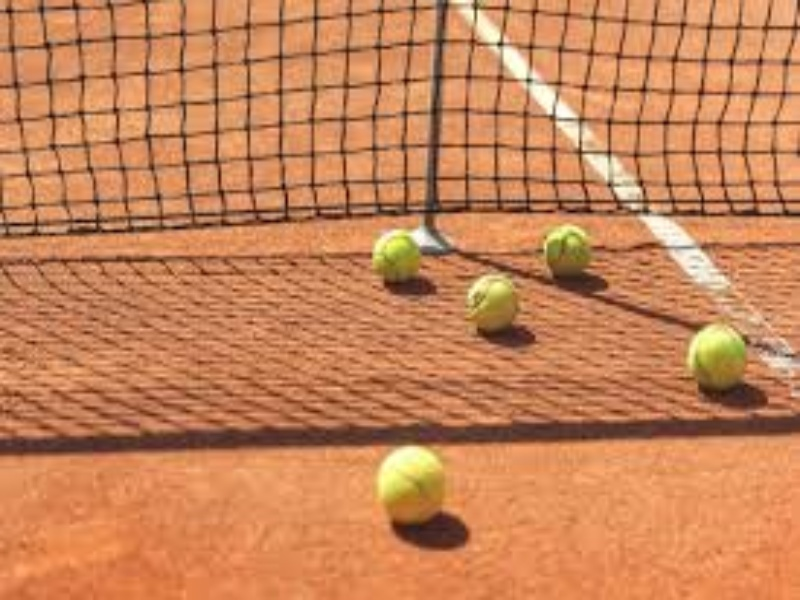tennis ball: (362, 435, 473, 548), (684, 320, 760, 402), (464, 266, 528, 336), (372, 226, 432, 289), (540, 224, 604, 277)
